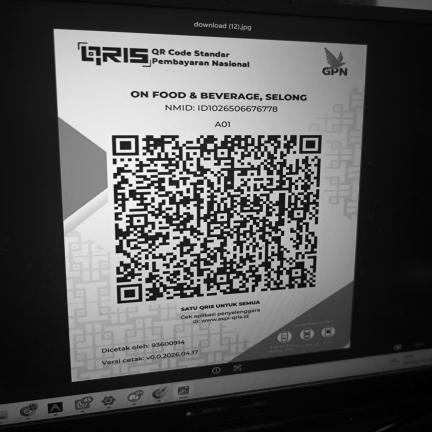Qris-Positioning: (54, 29, 366, 381)
